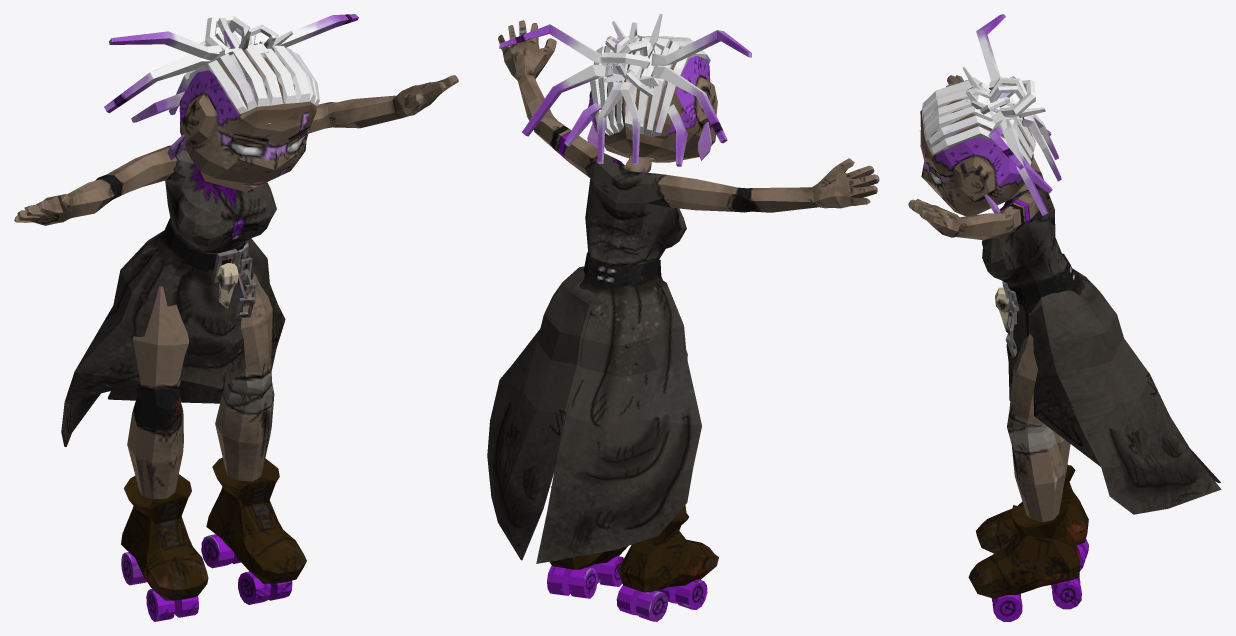
The model's file is bruja_000149.obj.
The picture shows the model from 3 angles, left to right: view 1: azimuth 30°, elevation 25°; view 2: azimuth 150°, elevation 25°; view 3: azimuth 270°, elevation 25°; orthographic projection. The views are drawn at different scales.
Visible parts, largest first — view 1: Bruja_Plane.001; view 2: Bruja_Plane.001; view 3: Bruja_Plane.001.
Part boxes in pixels (x1,y1,x2,y2): Bruja_Plane.001: (14,14,458,621); Bruja_Plane.001: (487,14,879,621); Bruja_Plane.001: (908,14,1221,621).
Bounding box in the file's own units: 11.96 × 16.51 × 8.72.
